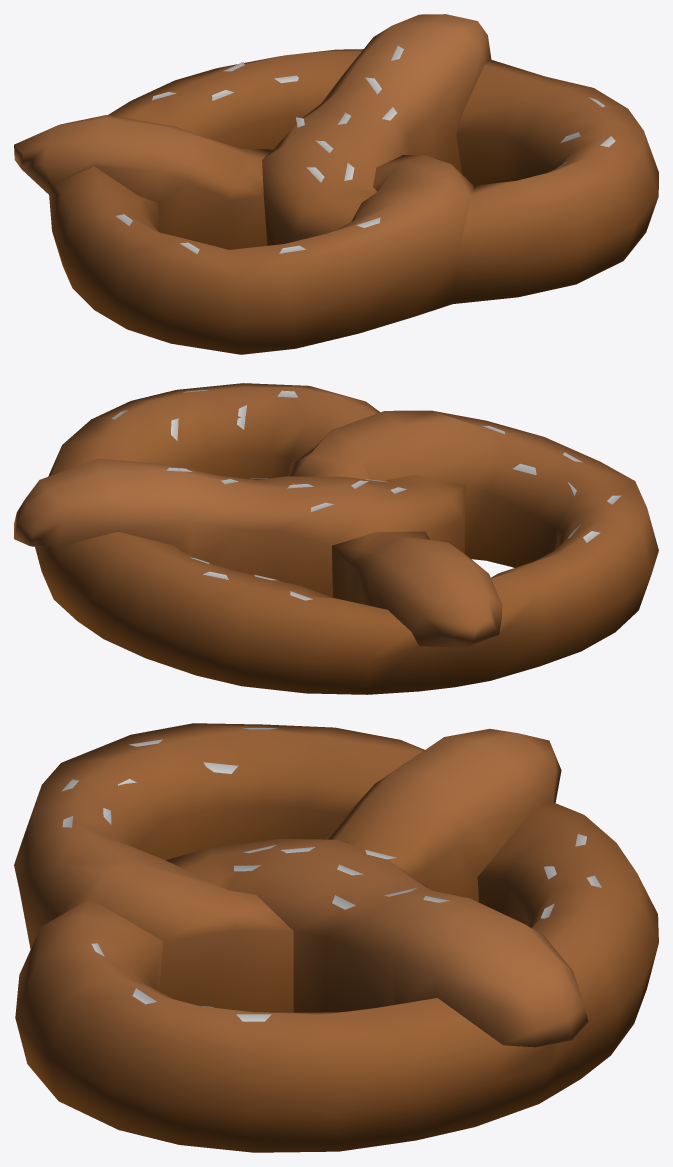
Rendered from Product Pretzel.fbx.
The picture shows the model from 3 angles, top to bottom: view 1: azimuth 30°, elevation 25°; view 2: azimuth 150°, elevation 25°; view 3: azimuth 270°, elevation 25°; orthographic projection. The views are drawn at different scales.
Parts seen in each view (by area): view 1: Product_Pretzel; view 2: Product_Pretzel; view 3: Product_Pretzel.
Part boxes in pixels (x1=…): Product_Pretzel: x1=14, y1=14, x2=658, y2=354; Product_Pretzel: x1=14, y1=383, x2=658, y2=694; Product_Pretzel: x1=14, y1=723, x2=658, y2=1152.
Size of the model in its own units: 168 by 38.57 by 133.
